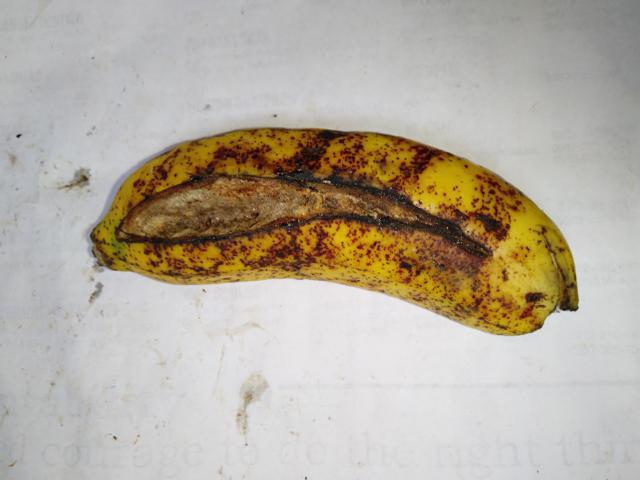rotten: (116, 148, 488, 294)
